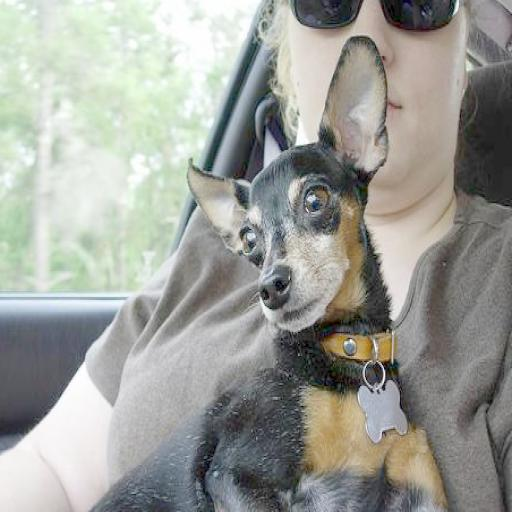dog_face: (172, 134, 416, 351)
